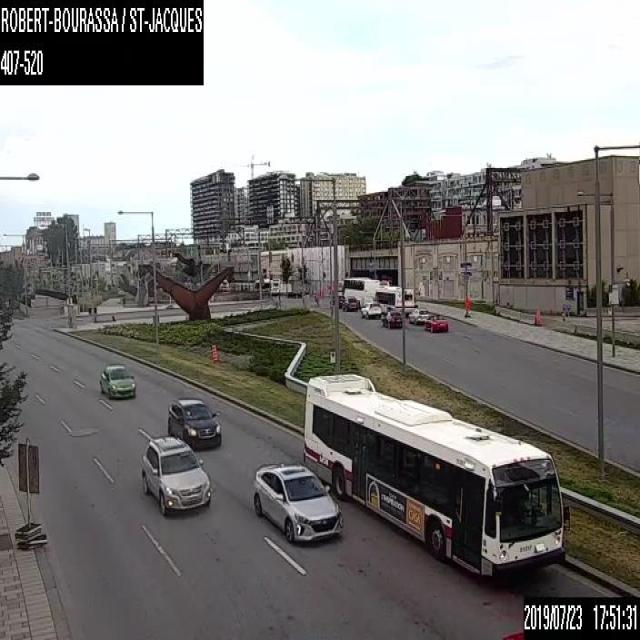bus: (302, 371, 567, 578), (374, 286, 414, 313), (342, 278, 382, 303), (253, 277, 280, 294)
construction: (209, 342, 219, 363), (534, 307, 542, 325), (464, 296, 470, 316)
vehicle: (255, 462, 343, 545), (143, 437, 221, 516), (167, 398, 222, 448), (98, 360, 136, 399), (425, 315, 450, 332), (381, 309, 402, 327), (407, 308, 429, 324), (359, 301, 382, 316), (342, 294, 357, 310), (329, 293, 344, 308)
